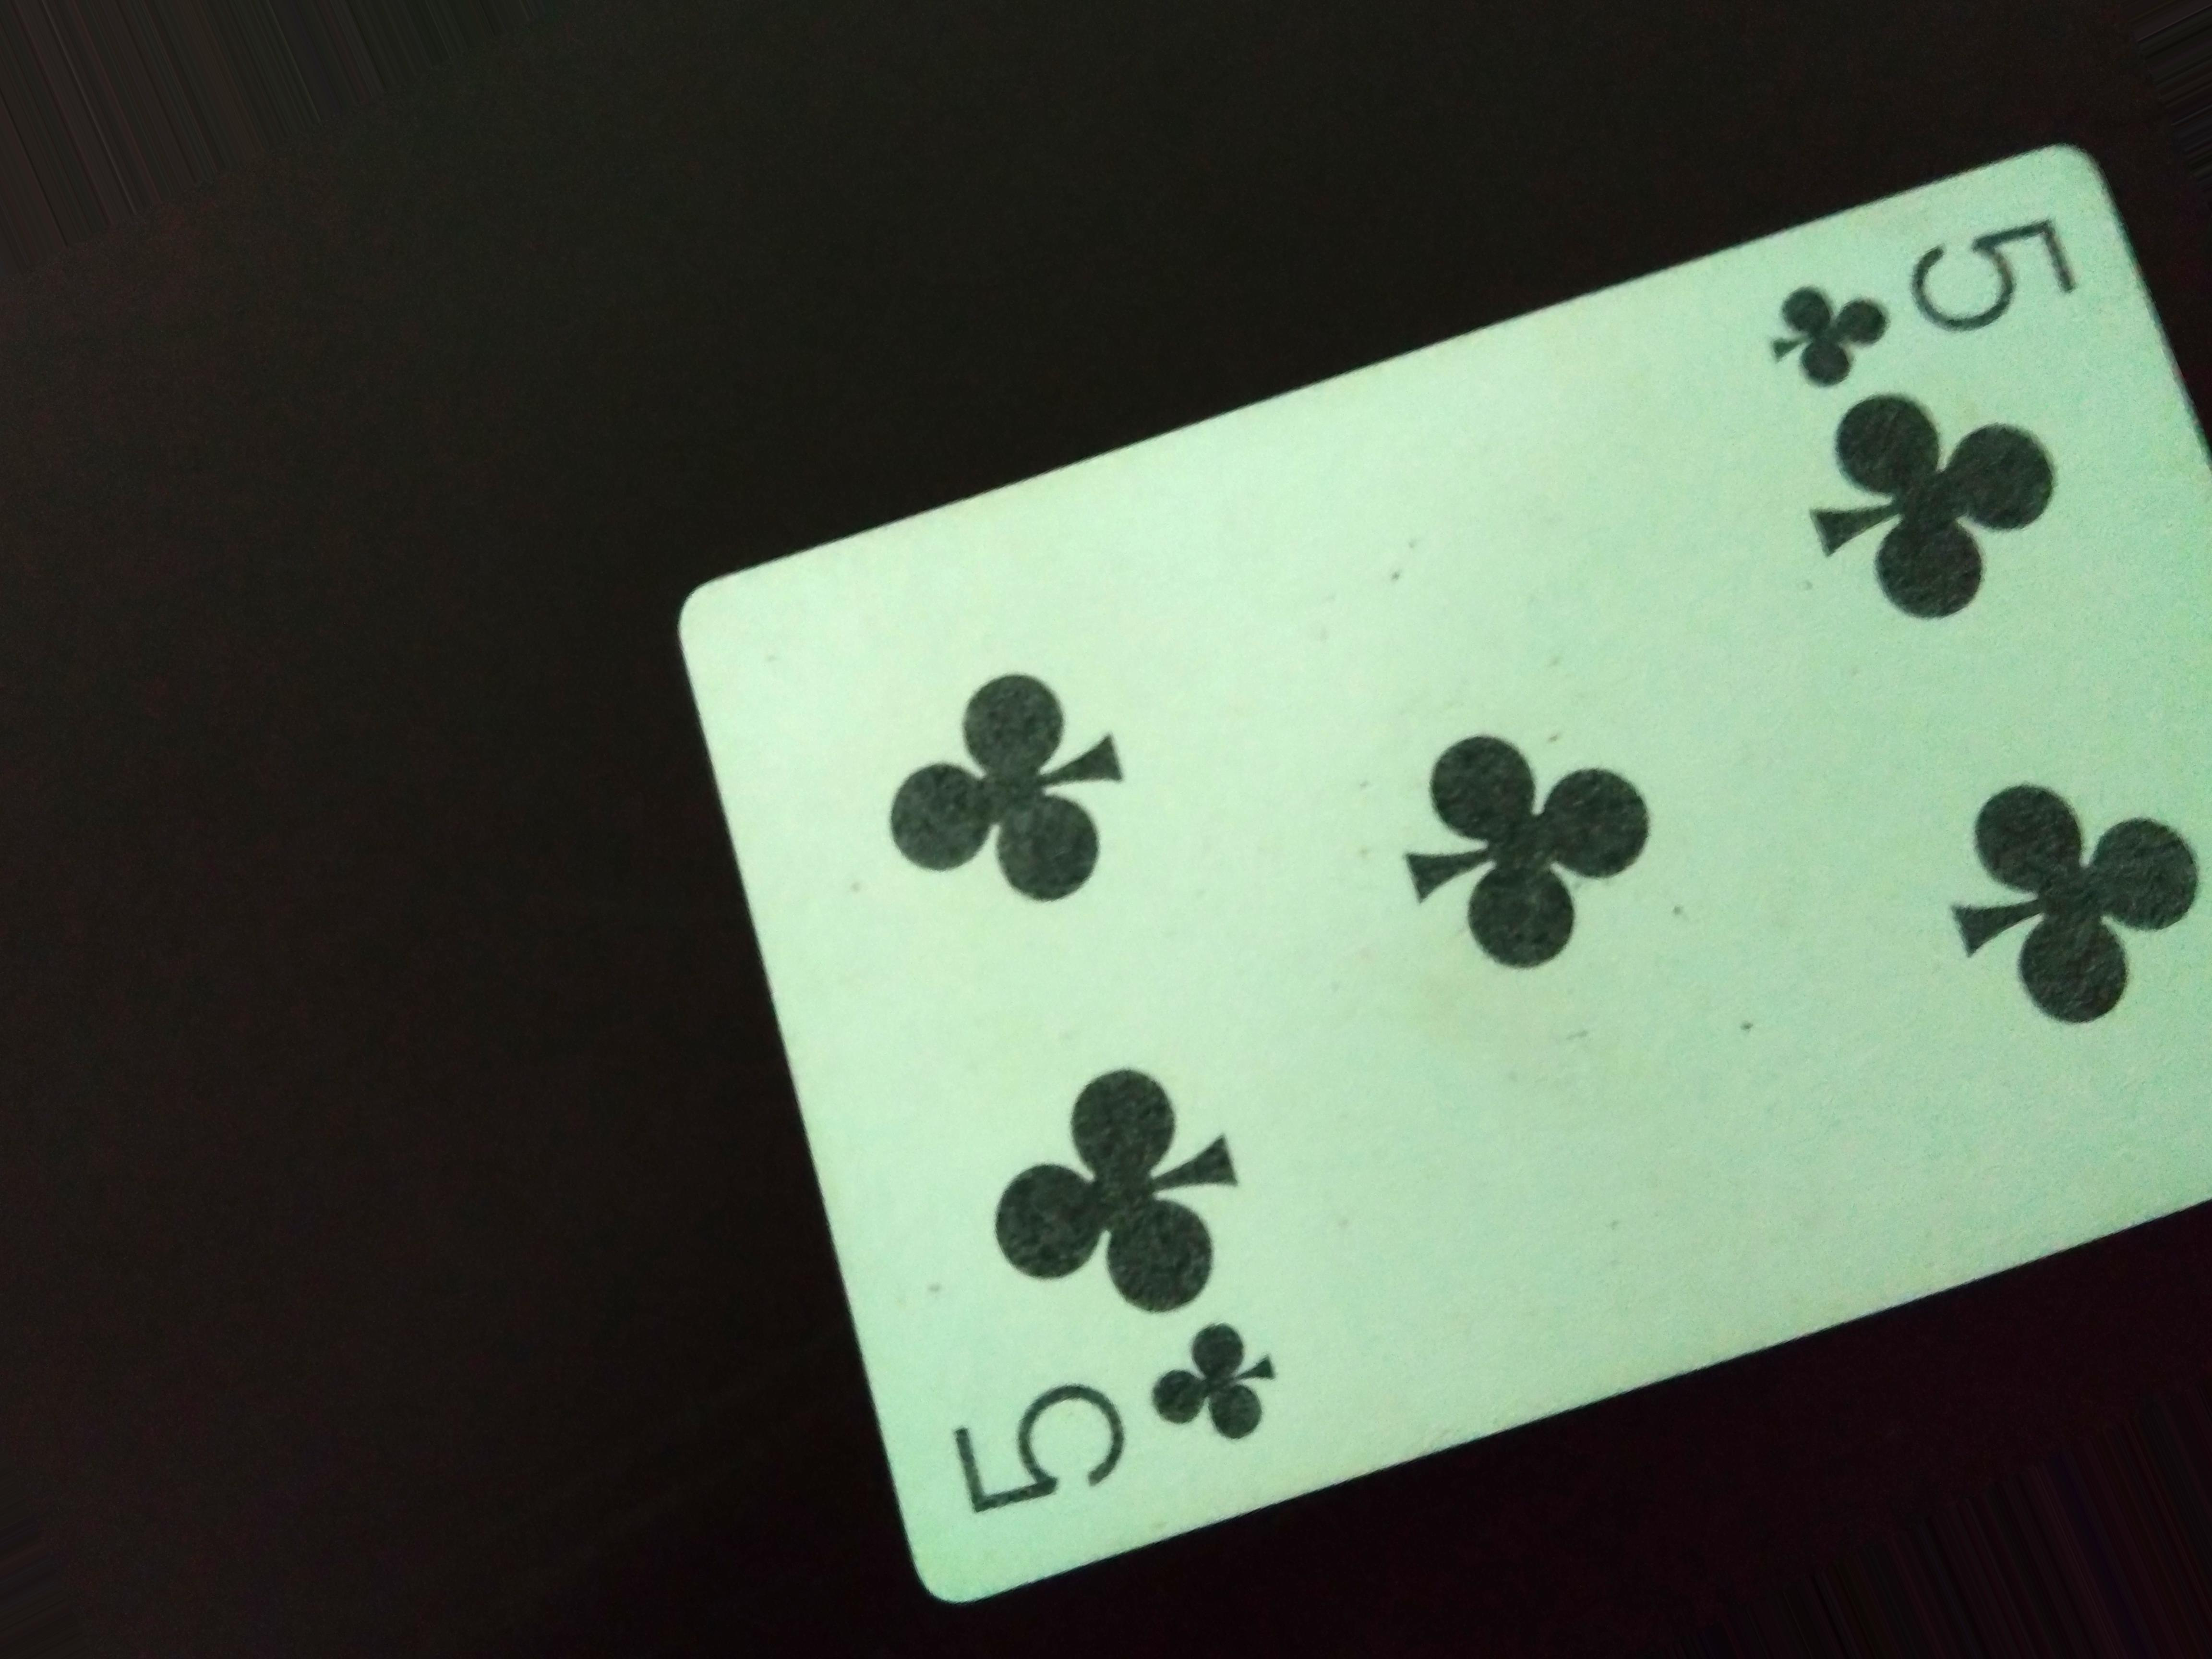5C: (934, 1302, 1303, 1507)
